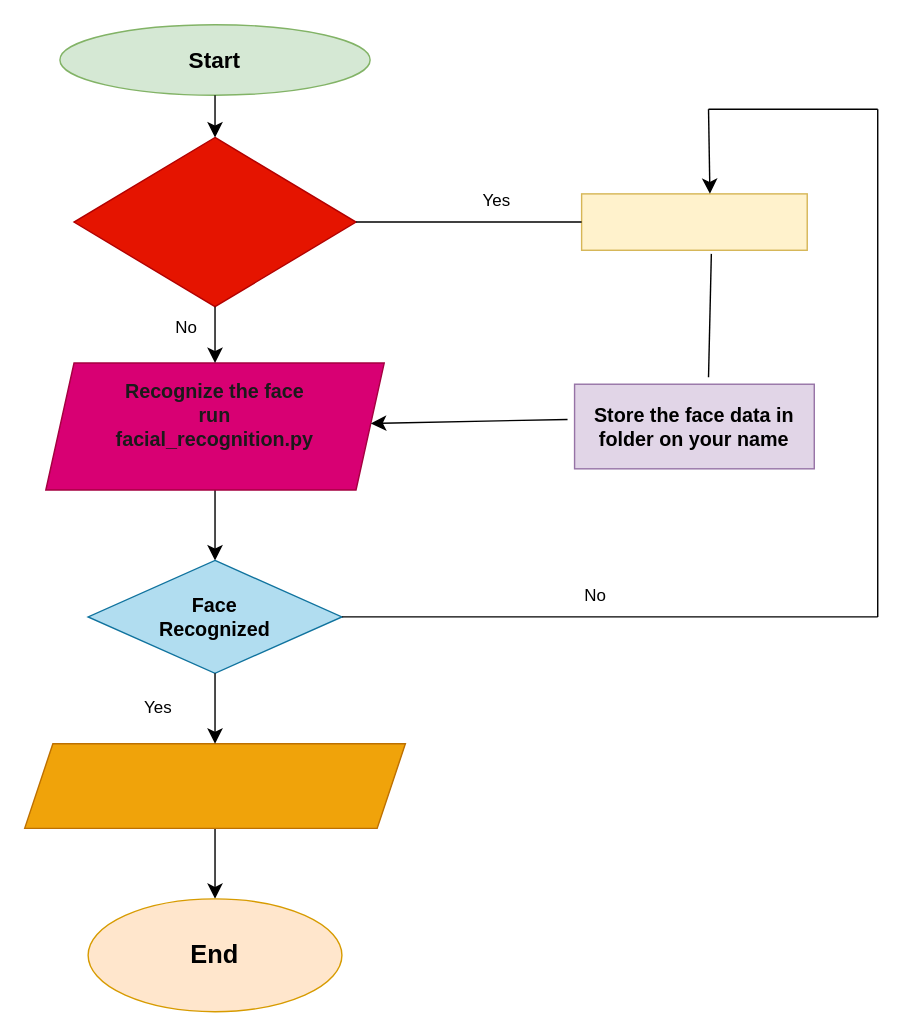
The diagram is 904 pixels wide and 1036 high, and some of its shapes have lost their labels. The centre of each missing label's shape, as x and y in pixels:
Give your photograph: (693,221)
New User? run Create_dataset.py: (214,221)
Stored in csv file with Registration Number & Date.Time of Entry: (214,785)
